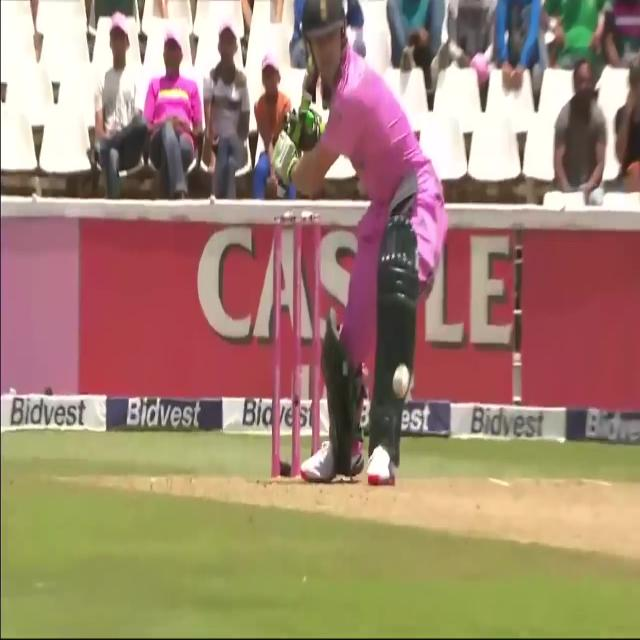Ball: (269, 0, 450, 478)
Batsman: (391, 358, 411, 412)
